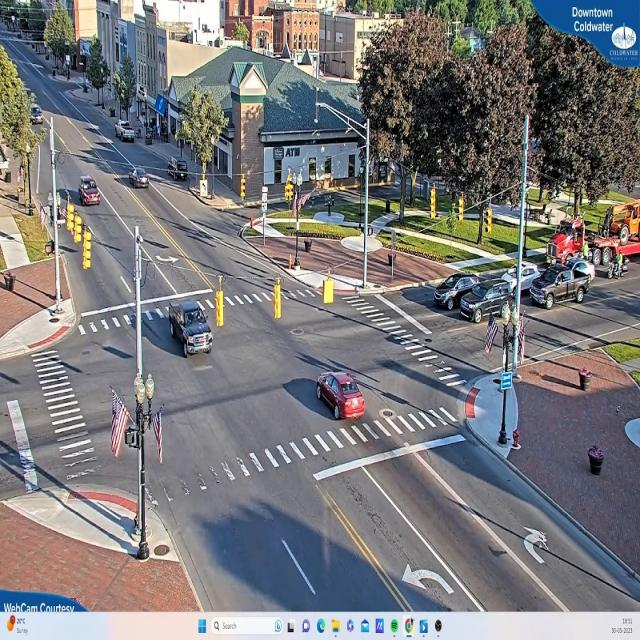car: (166, 296, 215, 357), (530, 264, 589, 310), (462, 274, 515, 320), (316, 372, 364, 421), (433, 268, 470, 308), (503, 264, 541, 290), (79, 178, 101, 206), (117, 122, 137, 144), (32, 110, 44, 125)
